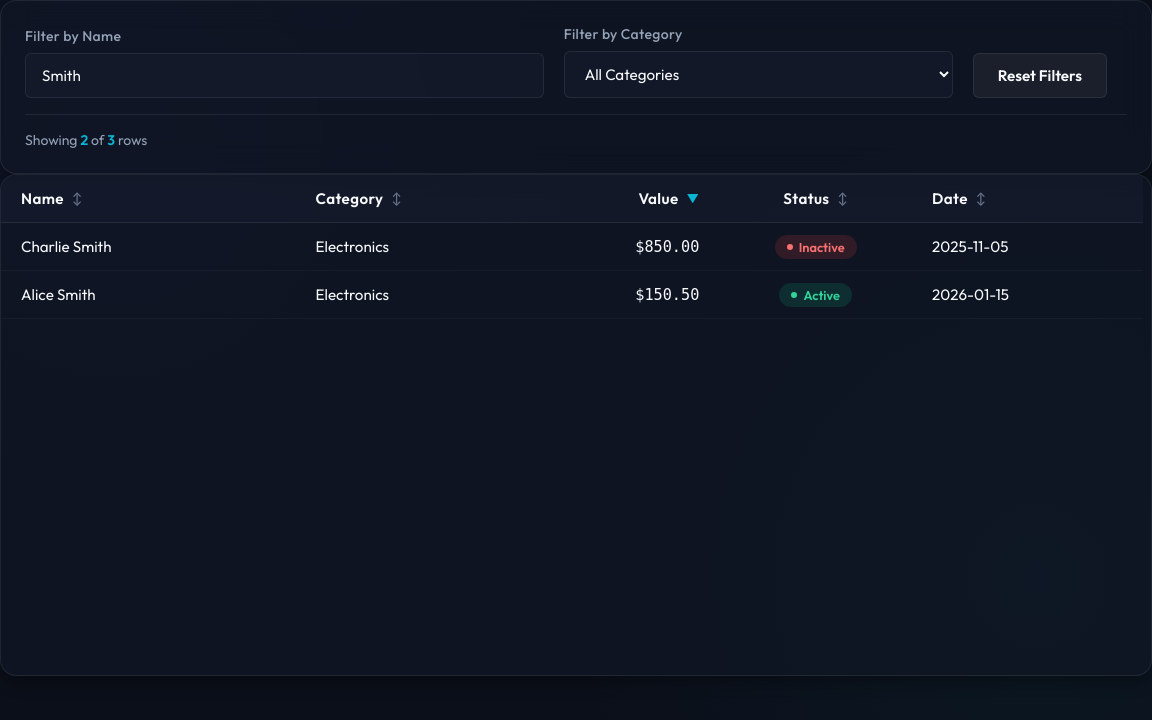
Test case: DataTable & TableControls Component Integrations › should display empty message if filter returns no matches
This screenshot has width=1152, height=720.
Replace the text in the field labelled "Filter by Name" with "NonExistentProduct": (284, 76) [25, 53, 544, 98]
Wait 500 ms
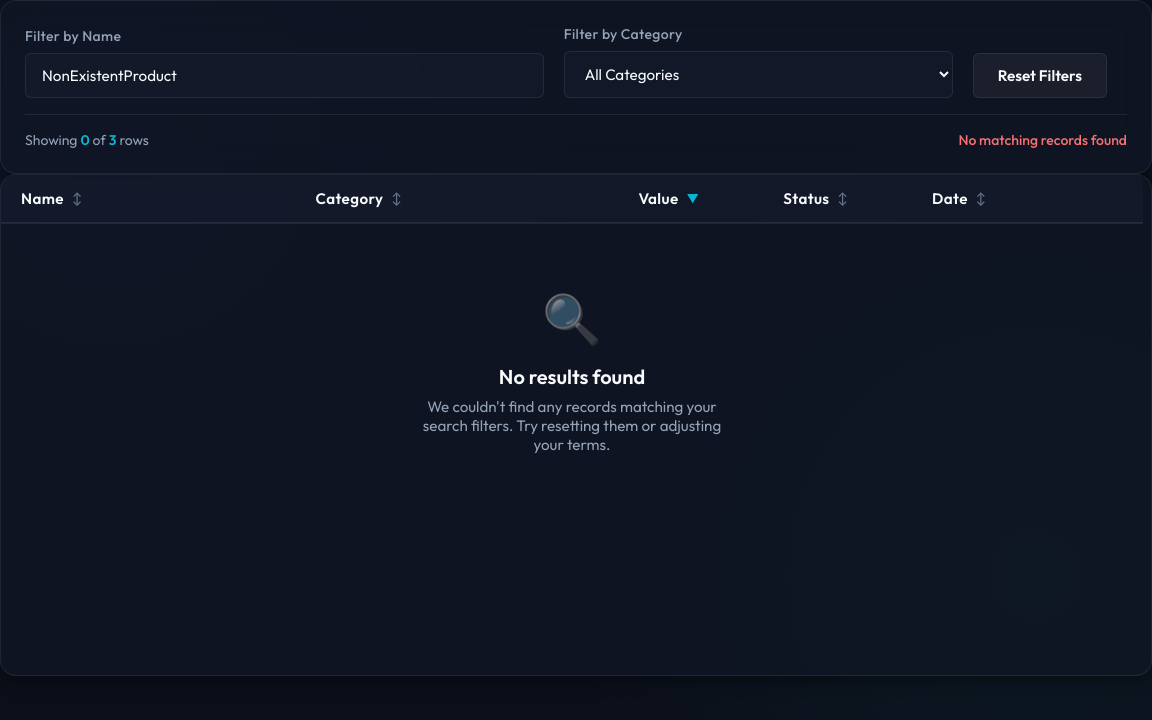
Expected: the text with test id "visible-count" reads "0", [80, 131, 90, 149]
Expected: the text "No results found" is shown, [499, 364, 645, 389]
